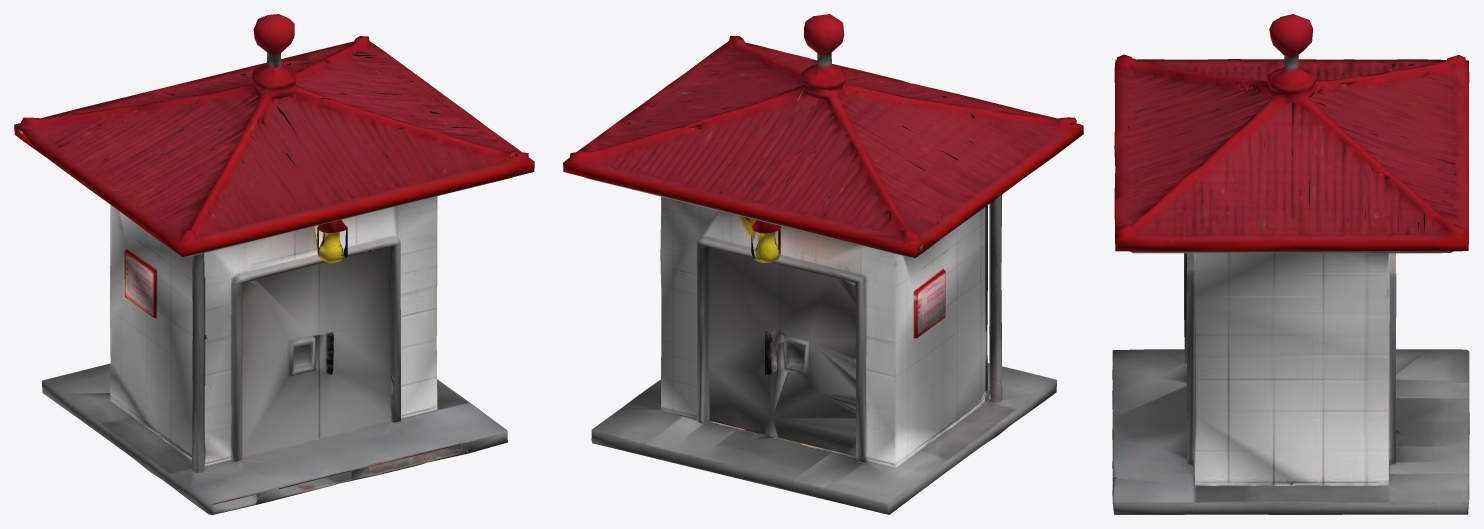
Rendered from koban.glb.
3 views of the same model, side by side, from view 1: azimuth 30°, elevation 25°; view 2: azimuth 150°, elevation 25°; view 3: azimuth 270°, elevation 25° (orthographic). The views are drawn at different scales.
Parts seen in each view (by area): view 1: koban; view 2: koban; view 3: koban.
Part boxes in pixels (x1,y1,x2,y2): koban: (14,14,534,514); koban: (563,14,1083,514); koban: (1112,14,1469,514).
Size of the model in its own units: 4.14 by 4.5 by 3.45.
Materials: 1 (1 with a texture image).
